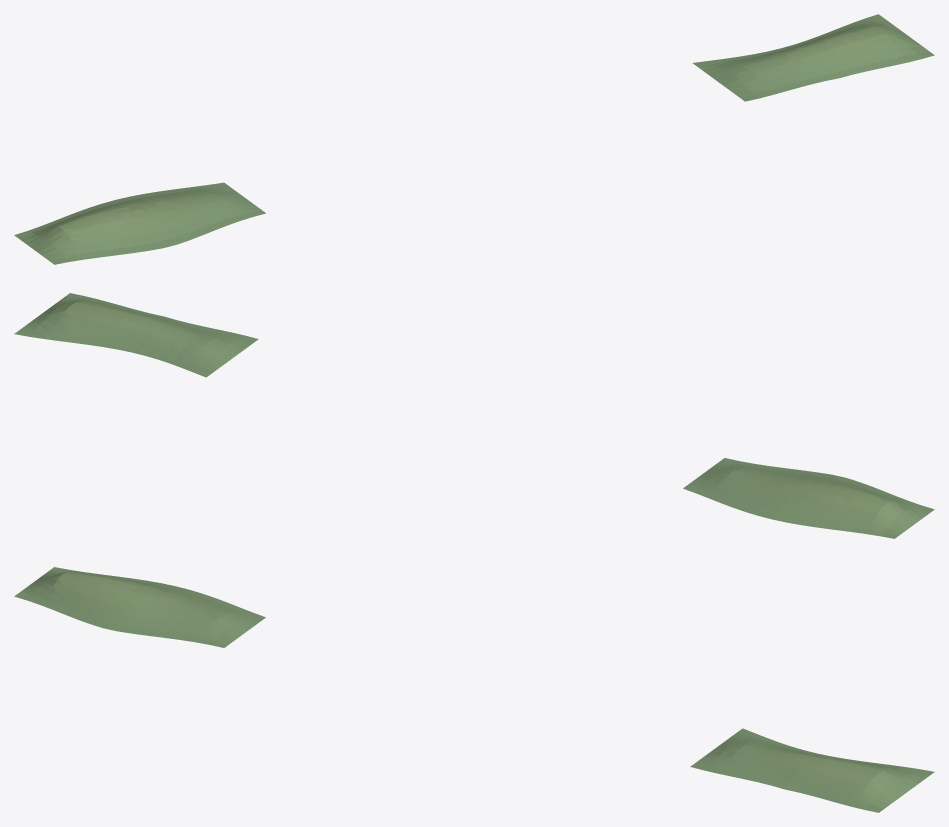
File: hill_east.glb
3 views of the same model, one above another, from view 1: azimuth 30°, elevation 25°; view 2: azimuth 150°, elevation 25°; view 3: azimuth 330°, elevation 25° (orthographic).
Parts seen in each view (by area): view 1: hill_east; view 2: hill_east; view 3: hill_east.
Part boxes in pixels (bbox=[...]): hill_east: bbox=[14, 14, 934, 264]; hill_east: bbox=[14, 293, 934, 538]; hill_east: bbox=[14, 567, 934, 812].
Bounding box in the file's own units: 40.1 × 0.7255 × 4.88.
